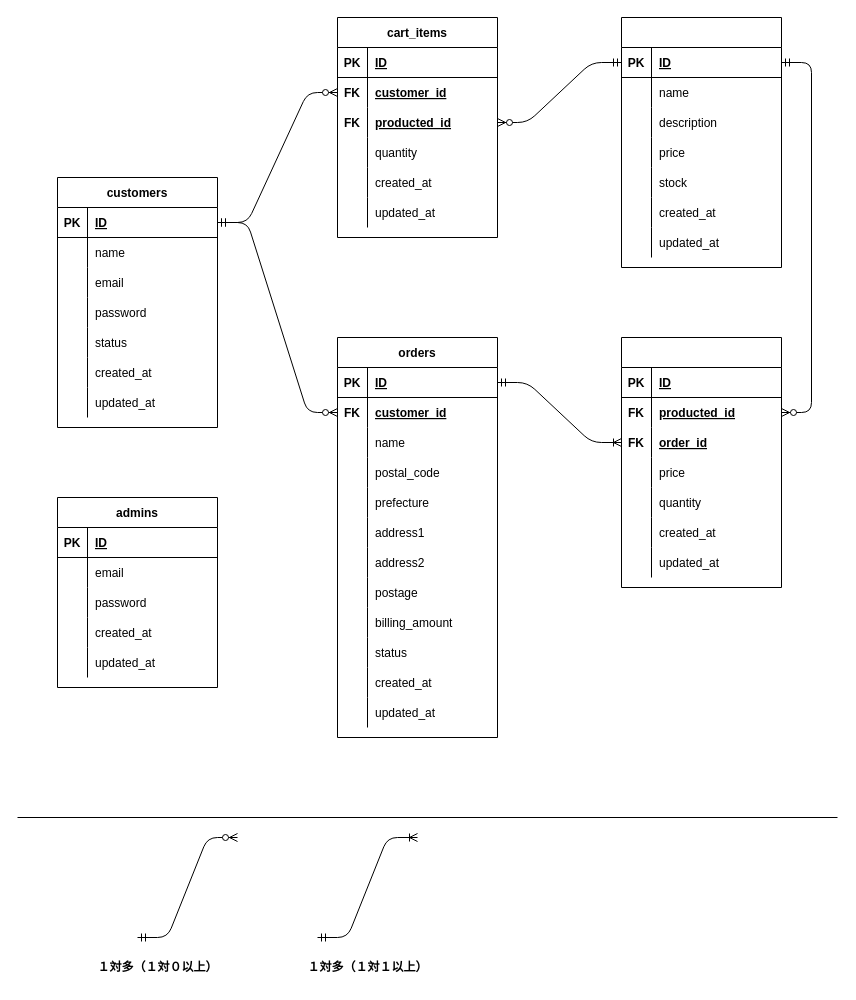
Image size: 856x1000. Some labels were removed from this diagram. Each missing label, with the box of its shape:
order-details: (620, 336, 782, 588)
products: (620, 16, 782, 268)
